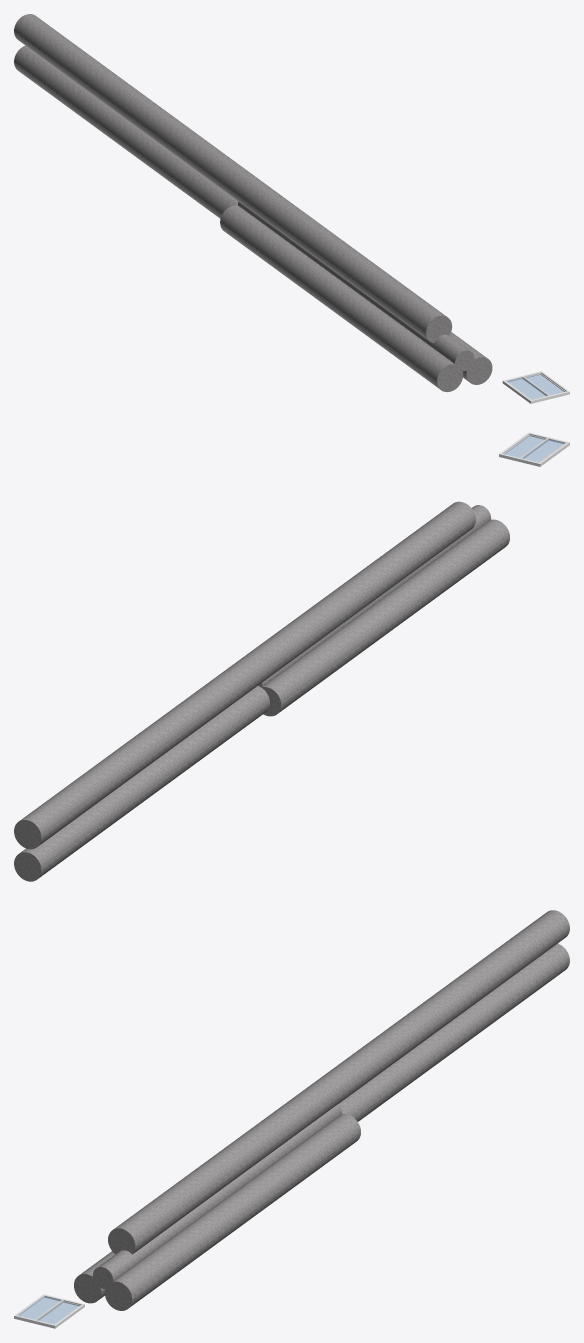
The picture shows the model from 3 angles, top to bottom: view 1: azimuth 30°, elevation 25°; view 2: azimuth 150°, elevation 25°; view 3: azimuth 330°, elevation 25°; orthographic projection. The views are drawn at different scales.
Visible parts, largest first — view 1: 0_3_1_2_2_0_1_0_2; view 2: 0_3_1_2_2_0_1_0_2; view 3: 0_3_1_2_2_0_1_0_2.
Part boxes in pixels (x1=…): 0_3_1_2_2_0_1_0_2: x1=14, y1=14, x2=569, y2=403; 0_3_1_2_2_0_1_0_2: x1=14, y1=432, x2=569, y2=881; 0_3_1_2_2_0_1_0_2: x1=14, y1=910, x2=569, y2=1328.
Size of the model in its own units: 1.77 by 1.7 by 27.05.
8 materials, 5 textured.
